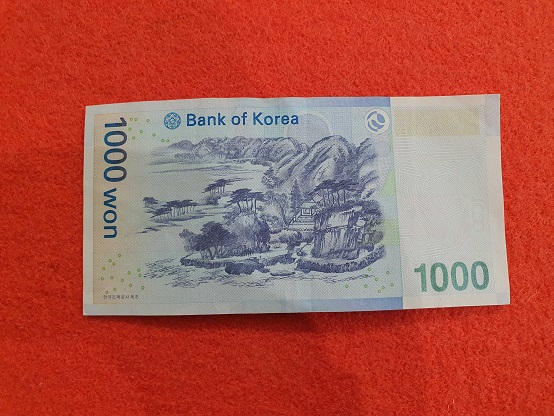1000won: (84, 94, 508, 314)
